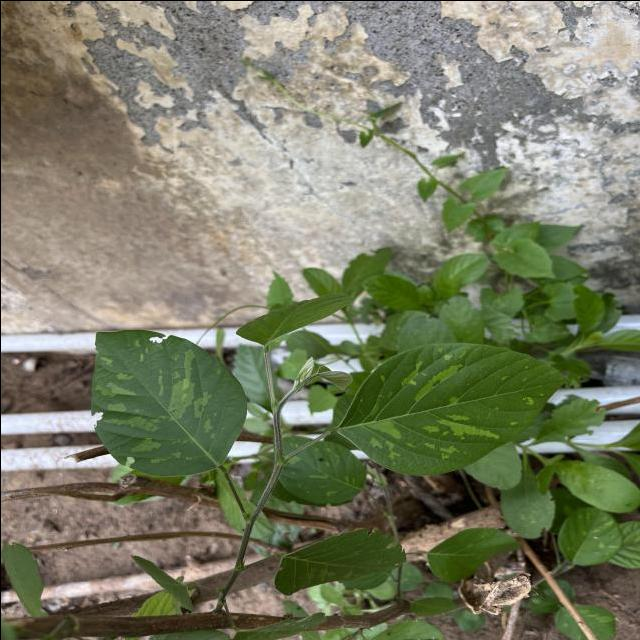Desmodium gangeticum: (332, 338, 571, 478), (86, 326, 249, 478)
